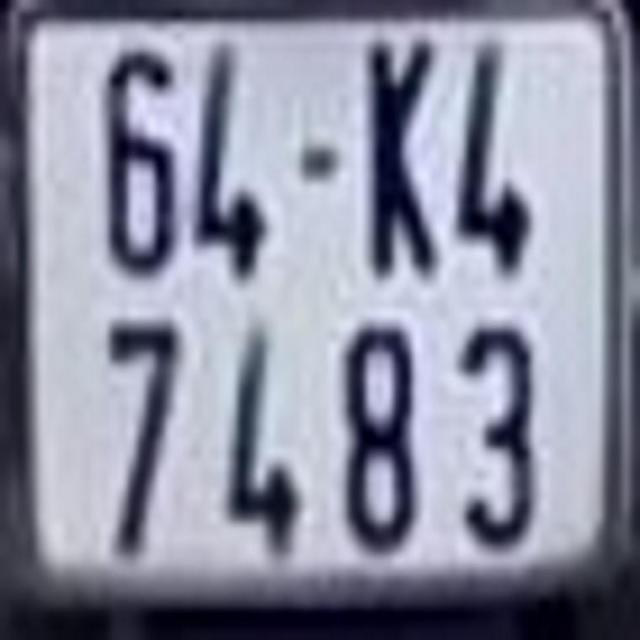3: (456, 311, 540, 554)
4: (219, 314, 301, 568), (453, 38, 533, 284), (190, 36, 268, 282)
6: (100, 49, 183, 273)
7: (104, 308, 183, 562)
8: (341, 314, 418, 560)
K: (361, 40, 443, 292)
